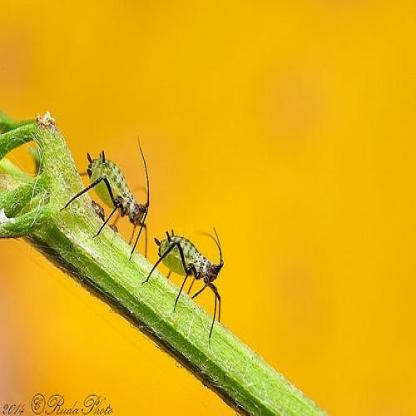aphid: (142, 207, 232, 337), (77, 130, 154, 264)
